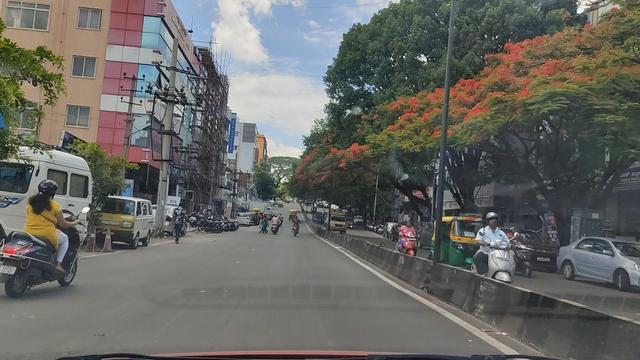LMV: (12, 171, 85, 294)
